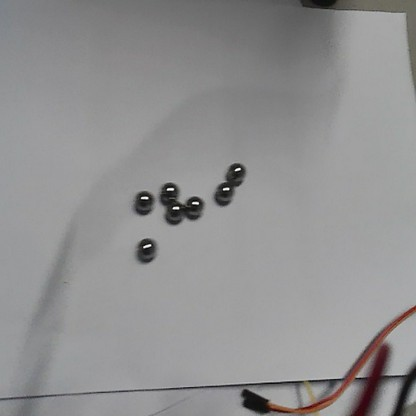ironball: (129, 187, 156, 214), (134, 233, 158, 263), (224, 159, 247, 184), (214, 182, 239, 205), (184, 193, 207, 218), (161, 198, 184, 222), (158, 182, 180, 203)
